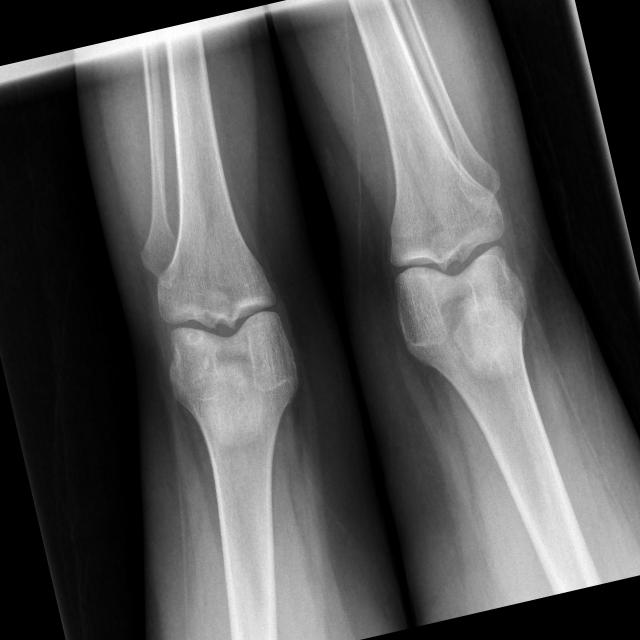Knee: (374, 182, 536, 338), (143, 244, 301, 394)
